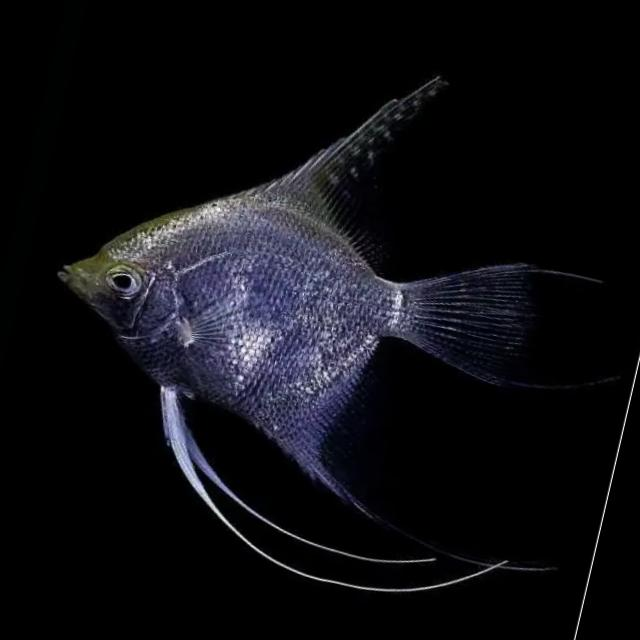AngelFish: (0, 2, 589, 621)
